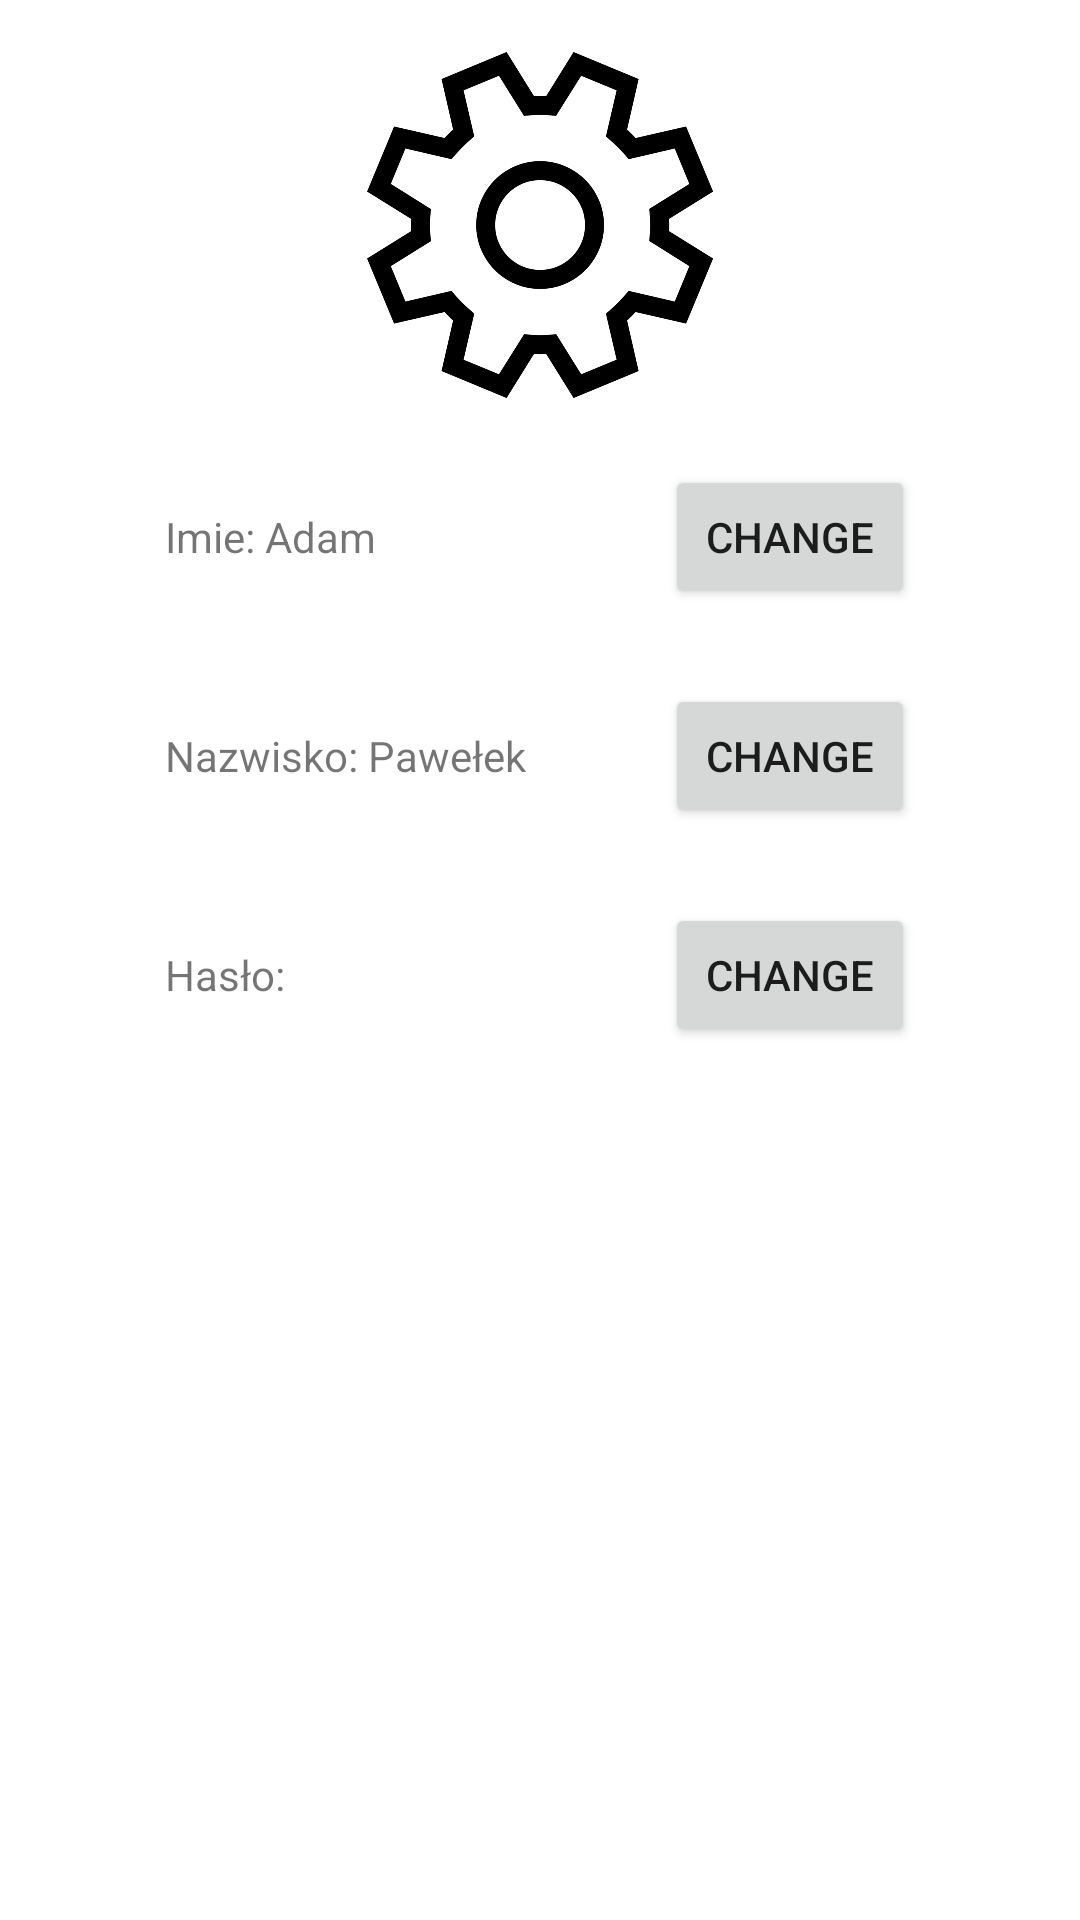

Point at icon controls on the screen. Image size 1080px x 1920px, points as (x,y).
setings: (540,225)
